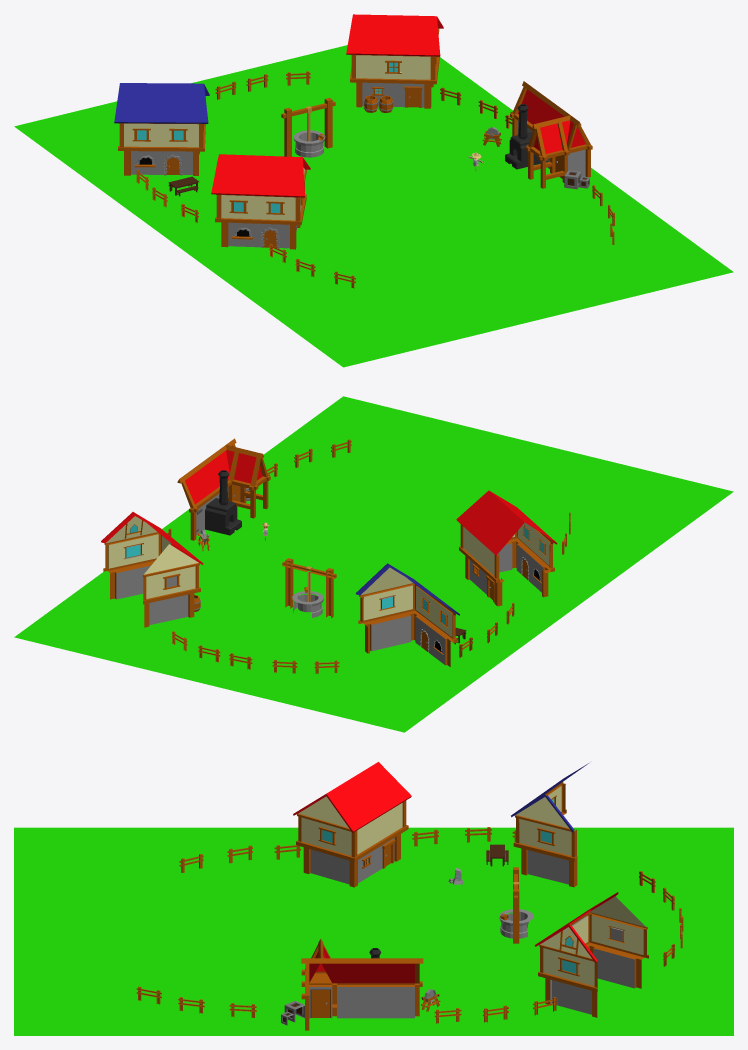
File: land.glb
The picture shows the model from 3 angles, top to bottom: view 1: azimuth 30°, elevation 25°; view 2: azimuth 150°, elevation 25°; view 3: azimuth 270°, elevation 25°; orthographic projection. The views are drawn at different scales.
Parts seen in each view (by area): view 1: Ground, House.002, House.003, House, Forge, Cube, Four, Well; view 2: Ground, House, House.002, House.003, Forge, Four, Cube, Well; view 3: Ground, House.002, House, Forge, House.003, Well, Cube.
Part boxes in pixels (x1,y1,x2,y2): Ground: [14, 45, 733, 367]; House.002: [211, 154, 310, 249]; House.003: [114, 83, 209, 175]; House: [346, 14, 443, 108]; Forge: [510, 81, 592, 188]; Cube: [281, 97, 335, 156]; Four: [505, 104, 540, 169]; Well: [293, 130, 325, 157]; Ground: [14, 396, 733, 732]; House: [101, 512, 203, 627]; House.002: [456, 490, 557, 606]; House.003: [355, 563, 459, 666]; Forge: [177, 438, 270, 540]; Four: [205, 470, 241, 535]; Cube: [282, 558, 336, 618]; Well: [292, 591, 323, 617]; Ground: [14, 827, 733, 1035]; House.002: [293, 762, 411, 887]; House: [534, 892, 648, 1017]; Forge: [301, 938, 423, 1030]; House.003: [511, 763, 588, 887]; Well: [499, 909, 533, 938]; Cube: [513, 867, 519, 943].
Bounding box in the file's own units: 32.64 × 6.46 × 47.66.
